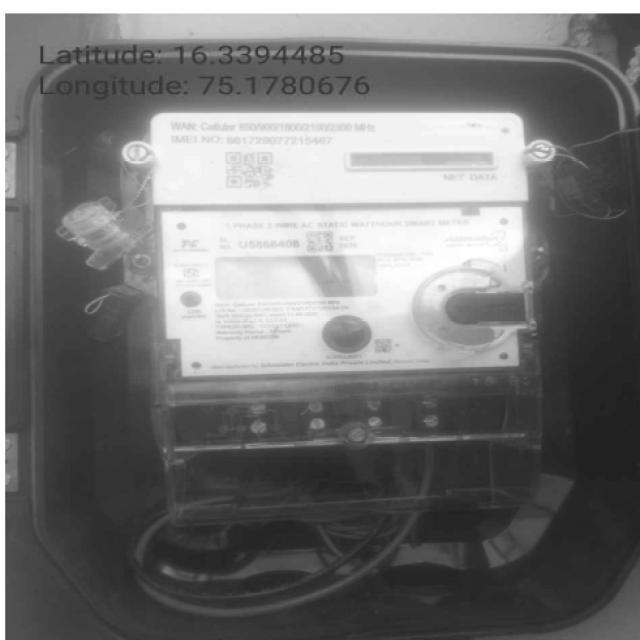meter: (151, 111, 536, 370)
